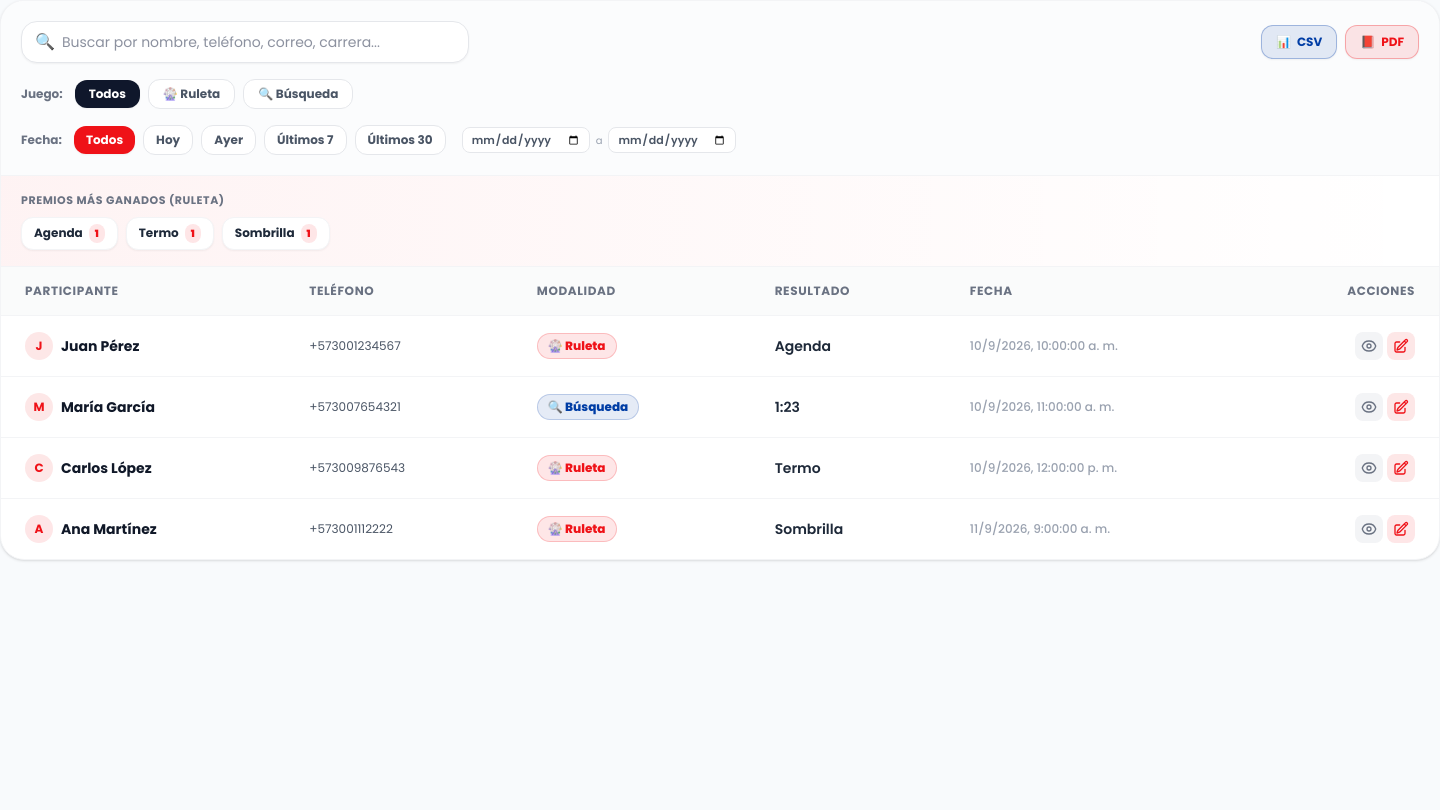
Test: RecordsTable › should filter records by game type
// Click the first "🎡 Ruleta" button (game filter)
Click the button "🎡 Ruleta" at (192, 94), box [148, 79, 235, 109]
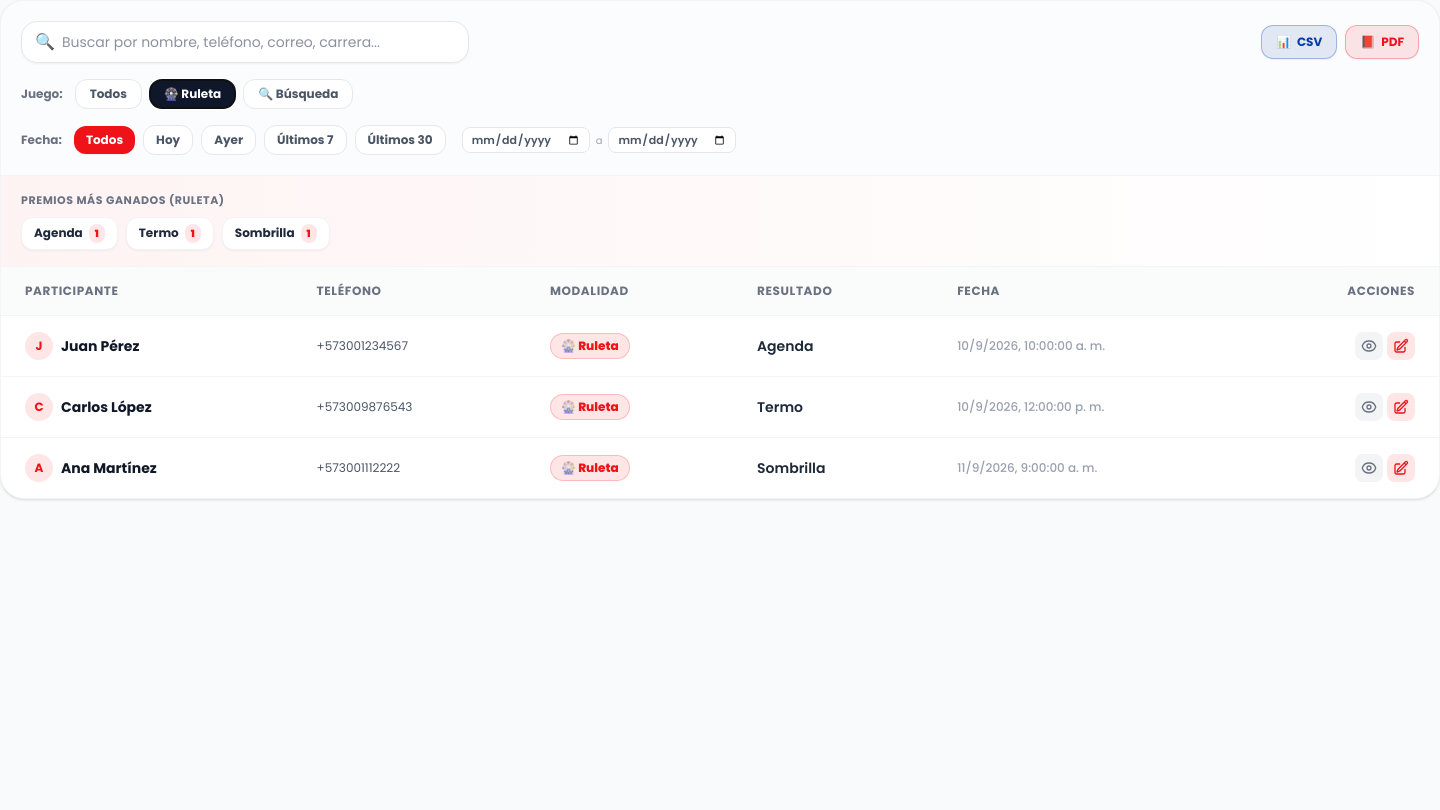
Result: the text "María García" is gone
